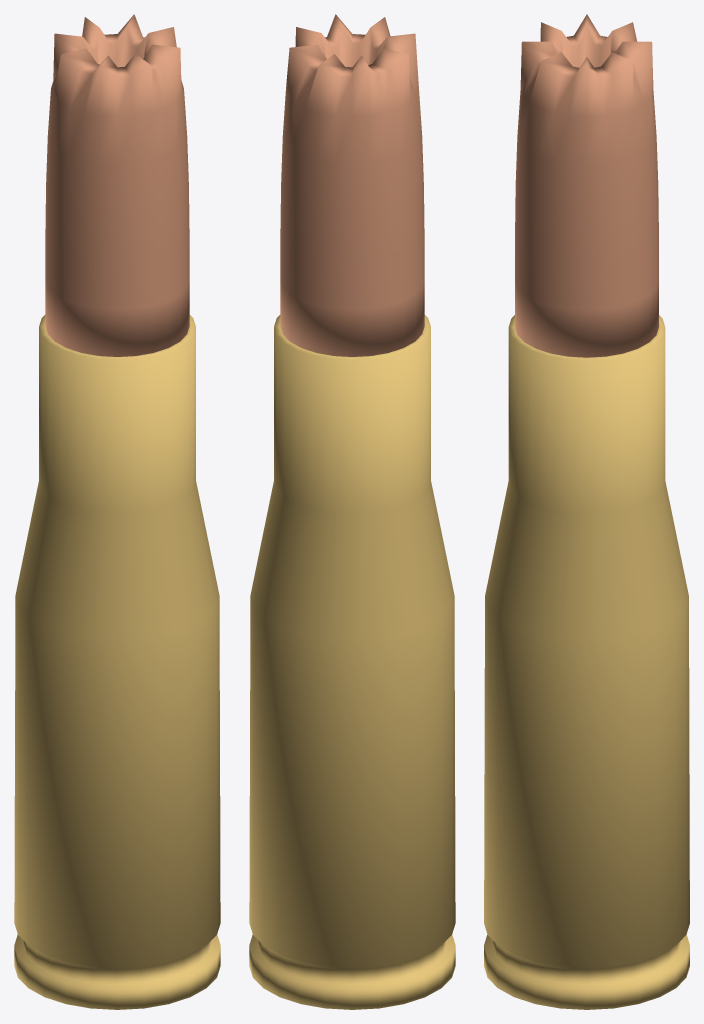
3 views of the same model, side by side, from view 1: azimuth 30°, elevation 25°; view 2: azimuth 150°, elevation 25°; view 3: azimuth 270°, elevation 25° (orthographic).
Parts seen in each view (by area): view 1: vaina, bala_flor; view 2: vaina, bala_flor; view 3: vaina, bala_flor.
Boxes of the visible parts, box(x1,y1,x2,y2) form: vaina: box(14, 315, 220, 1009); bala_flor: box(45, 14, 189, 356); vaina: box(249, 315, 455, 1009); bala_flor: box(280, 14, 424, 356); vaina: box(484, 315, 689, 1009); bala_flor: box(515, 14, 658, 357).
Bounding box in the file's own units: 0.0113 × 0.056 × 0.0113.
